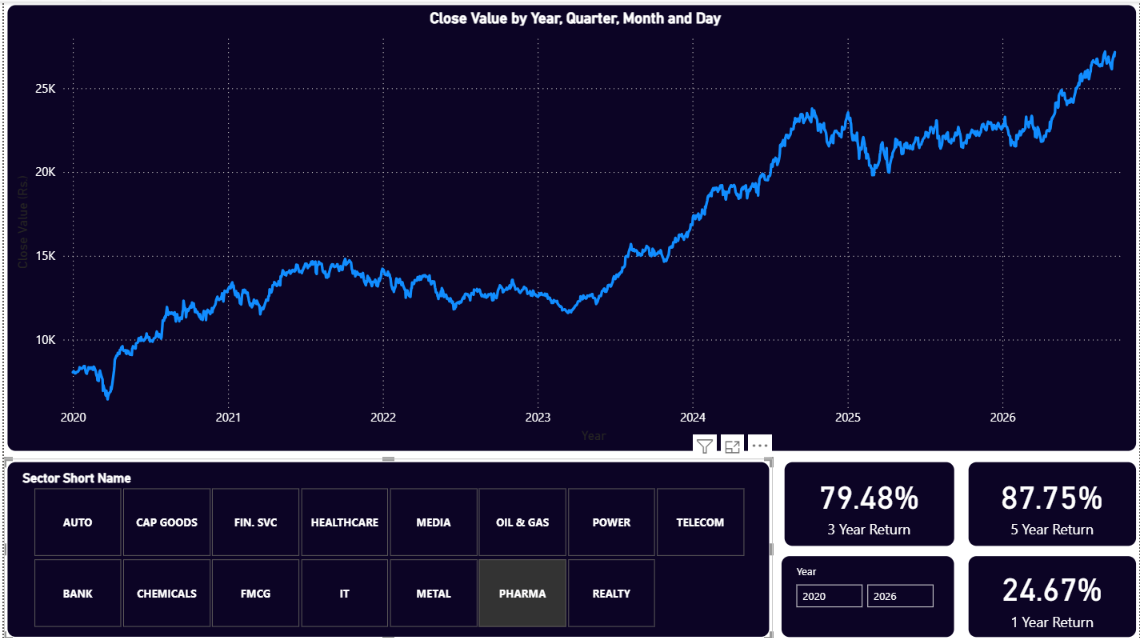

Layout of this report page (visuals, bound fields, positions):
{"tool":"powerbi","page":{"name":"Page 2","canvas":[1280,720],"ordinal":1},"visuals":[{"type":"lineChart","title":" Close Value by Year, Quarter, Month and Day","fields":{"Category":["Date Table.Date.Variation.Date Hierarchy.Year","Date Table.Date.Variation.Date Hierarchy.Quarter","Date Table.Date.Variation.Date Hierarchy.Month","Date Table.Date.Variation.Date Hierarchy.Day"],"Y":["Max(Combine Data.Close)"]},"box":[0,0,1280.2,510.5],"z":0},{"type":"slicer","fields":{"Values":["Combine Data.Sector Short Name"]},"box":[0,515.1,866.3,204.7],"z":1000},{"type":"slicer","fields":{"Values":["Date Table.Year"]},"box":[872.1,620.9,202.3,98.8],"z":1001},{"type":"card","fields":{"Values":["Combine Data.3 Year Return"]},"box":[875.6,514.5,198.8,102.3],"z":1002},{"type":"card","fields":{"Values":["Combine Data.5 Year Return"]},"box":[1083.7,514.5,196.5,102.3],"z":1003},{"type":"card","fields":{"Values":["Combine Data.1 Year Return"]},"box":[1083.7,620.9,196.5,98.8],"z":1004}]}

Visuals, with their boxes in screenshot pixels (x1, y1, x2, y2), scaled from the page's 1280x720 canvas onto the 1140x638 screenshot:
" Close Value by Year, Quarter, Month and Day" lineChart: locate(0, 0, 1139, 452)
slicer - Combine Data.Sector Short Name: locate(0, 456, 772, 637)
slicer - Date Table.Year: locate(777, 550, 957, 637)
card - Combine Data.3 Year Return: locate(780, 456, 957, 547)
card - Combine Data.5 Year Return: locate(965, 456, 1139, 547)
card - Combine Data.1 Year Return: locate(965, 550, 1139, 637)
